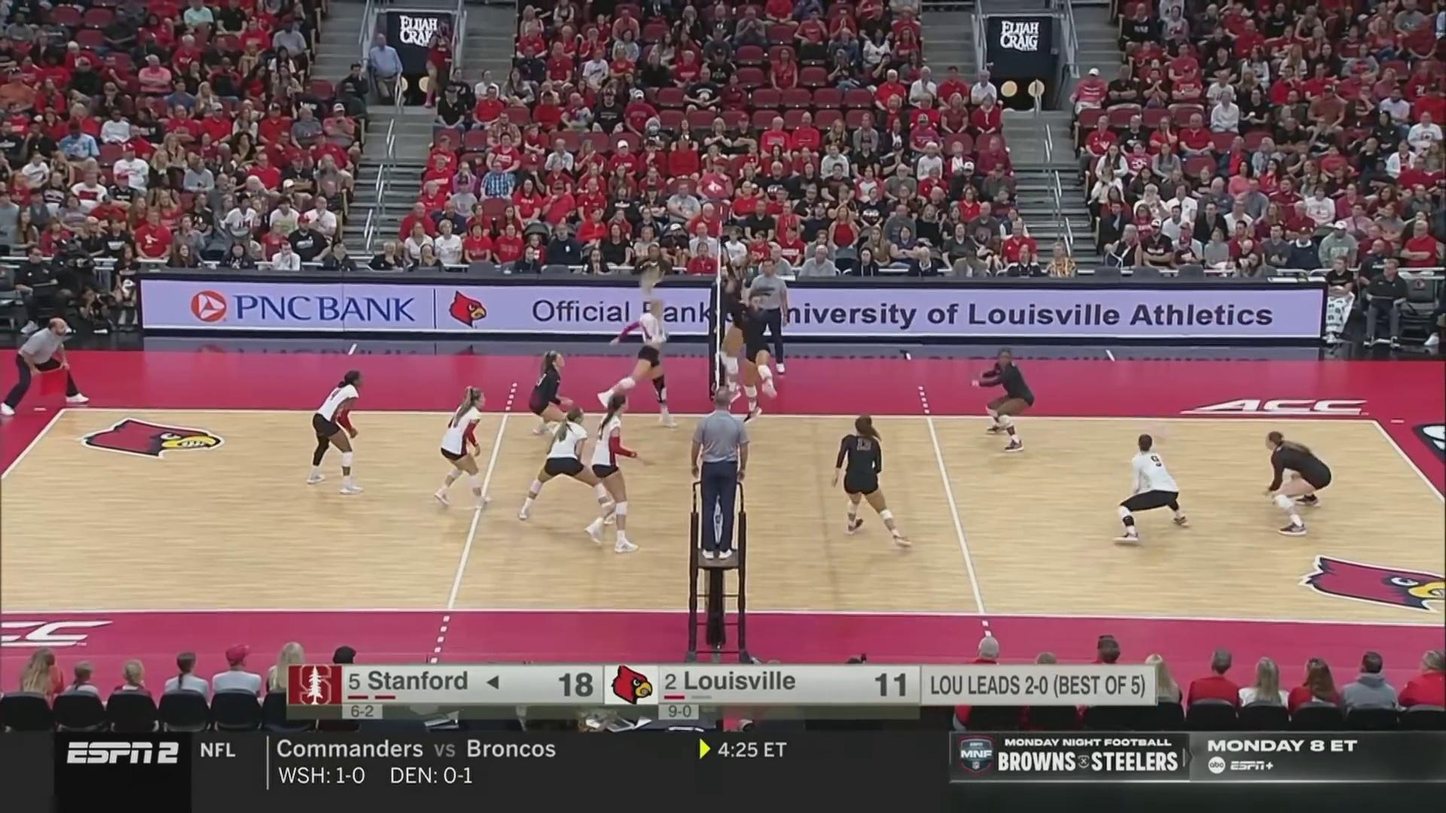player: (834, 411, 912, 552), (598, 297, 679, 429), (520, 409, 613, 522), (586, 393, 641, 555), (1115, 434, 1189, 542), (434, 388, 499, 508), (309, 370, 365, 490), (1265, 433, 1329, 537), (979, 349, 1039, 456), (522, 350, 585, 446), (739, 290, 777, 422), (722, 264, 752, 412)
refree: (686, 391, 748, 553), (0, 317, 87, 417), (745, 259, 789, 376)
